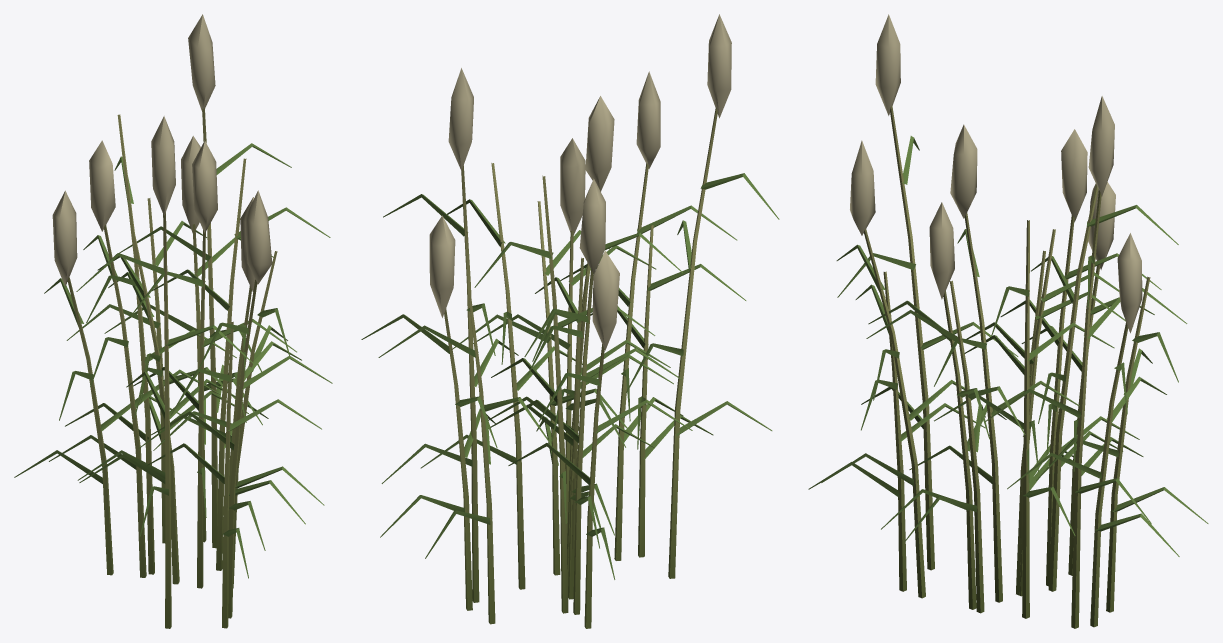
The model's file is river_reeds.glb.
3 views of the same model, side by side, from view 1: azimuth 30°, elevation 25°; view 2: azimuth 150°, elevation 25°; view 3: azimuth 270°, elevation 25° (orthographic). The views are drawn at different scales.
Parts seen in each view (by area): view 1: river_reeds_mesh; view 2: river_reeds_mesh; view 3: river_reeds_mesh.
Boxes of the visible parts, x1,y1,x2,y2 form: river_reeds_mesh: [14, 14, 332, 628]; river_reeds_mesh: [361, 14, 779, 628]; river_reeds_mesh: [808, 14, 1208, 628].
Size of the model in its own units: 2.73 by 4.64 by 3.11.
